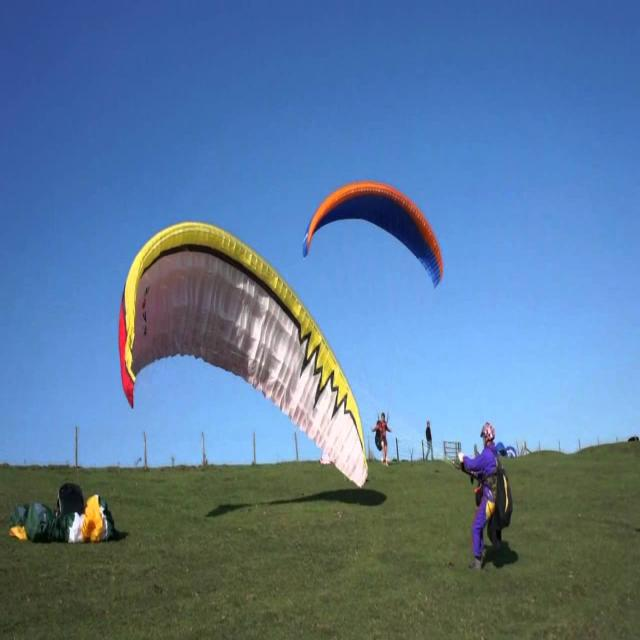paraglider: (118, 219, 370, 488)
